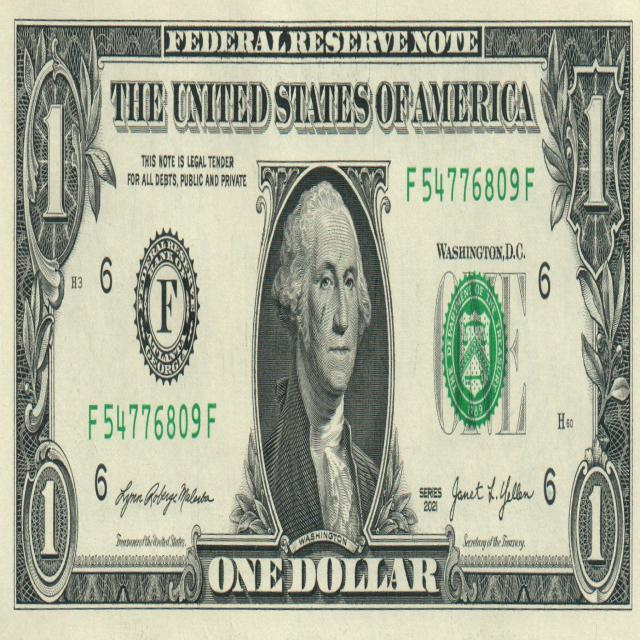SerialNumber: (89, 403, 216, 440), (407, 167, 534, 202)
